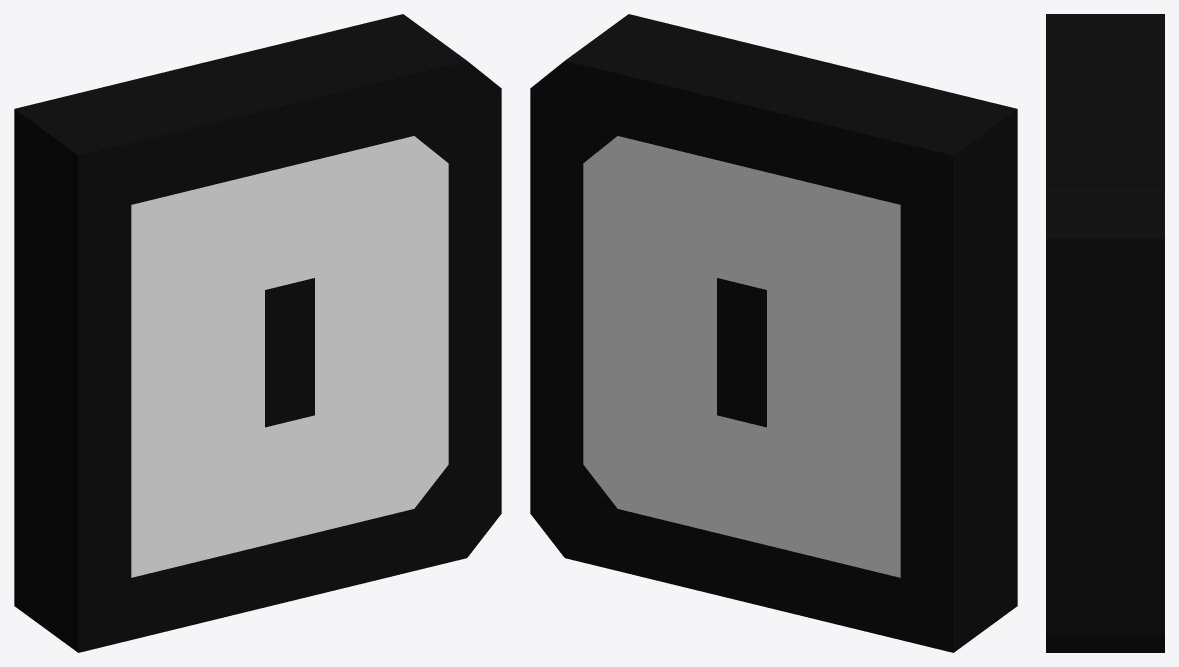
The model's file is Font_Letter_D_01.fbx.
The picture shows the model from 3 angles, left to right: view 1: azimuth 30°, elevation 25°; view 2: azimuth 150°, elevation 25°; view 3: azimuth 270°, elevation 25°; orthographic projection. The views are drawn at different scales.
Parts seen in each view (by area): view 1: Font_Letter_D_01; view 2: Font_Letter_D_01; view 3: Font_Letter_D_01.
Boxes of the visible parts, bbox=[...] form: Font_Letter_D_01: bbox=[14, 14, 501, 652]; Font_Letter_D_01: bbox=[530, 14, 1017, 652]; Font_Letter_D_01: bbox=[1046, 14, 1164, 652].
Bounding box in the file's own units: 74.41 × 83.57 × 19.48.
